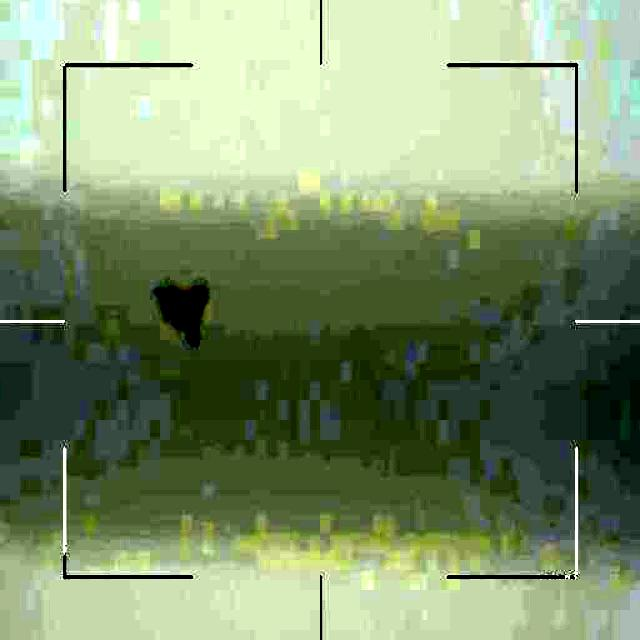bird: (151, 280, 224, 356)
